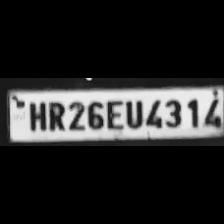1: (183, 96, 201, 128)
2: (65, 98, 84, 132)
3: (162, 97, 182, 129)
4: (200, 95, 222, 129), (143, 97, 163, 129)
6: (84, 99, 104, 131)
E: (104, 98, 124, 130)
H: (26, 98, 46, 132)
R: (46, 98, 64, 132)
U: (123, 97, 143, 129)
